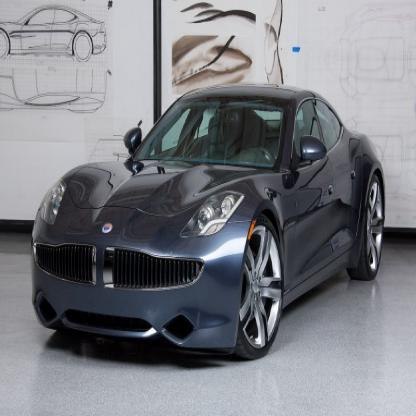Vehicle: (31, 85, 388, 364)
